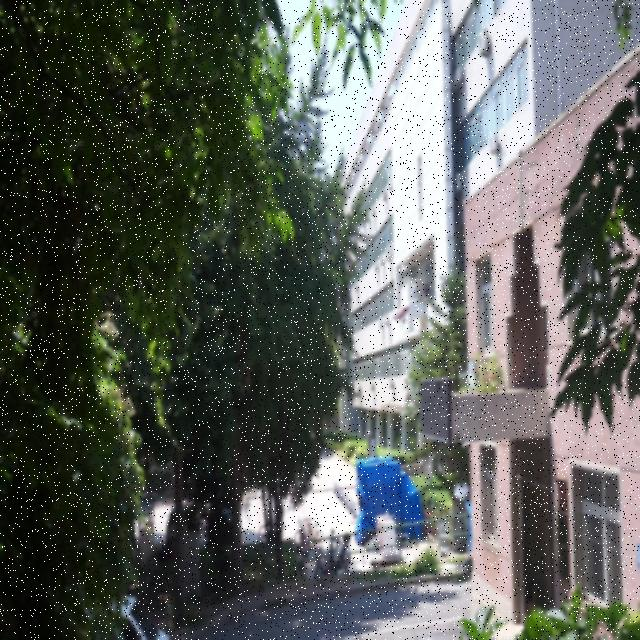UAV: (390, 298, 420, 330)
